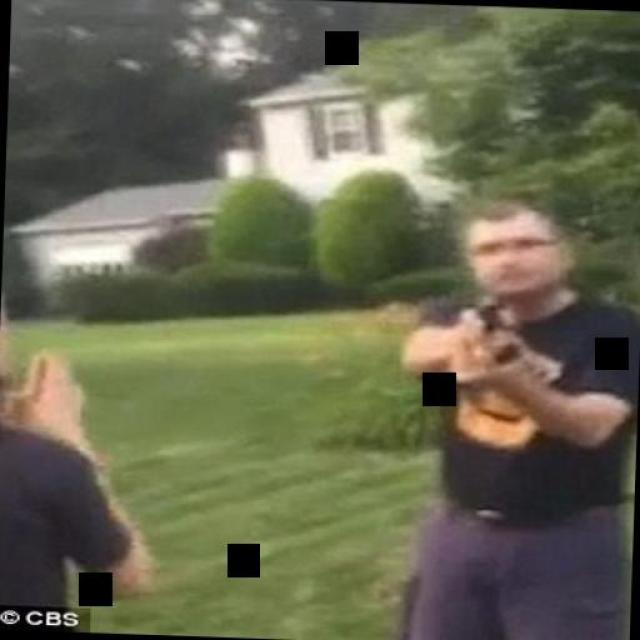gun: (464, 293, 516, 352)
